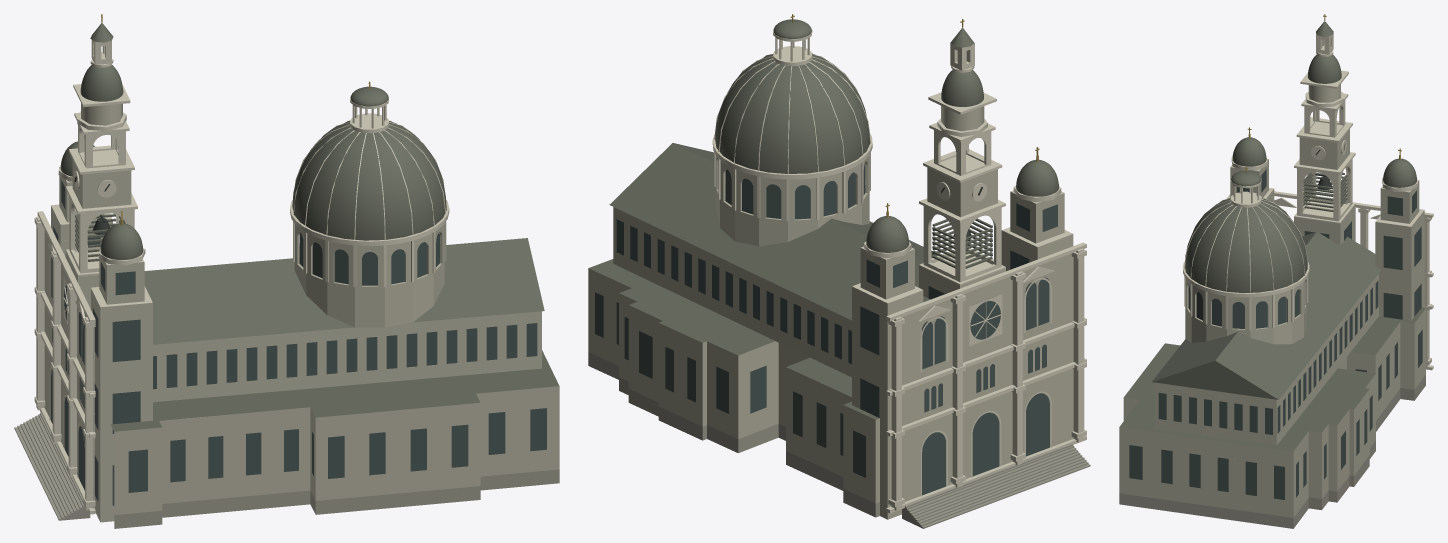
The model's file is cathedral-blessed-sacrament-sacramento-near.glb.
3 renders of one model, left to right at view 1: azimuth 30°, elevation 25°; view 2: azimuth 150°, elevation 25°; view 3: azimuth 270°, elevation 25°, orthographic. The views are drawn at different scales.
Parts seen in each view (by area): view 1: cathedral-blessed-sacrament-sacramento-0-stone, cathedral-blessed-sacrament-sacramento-0-roof, cathedral-blessed-sacrament-sacramento-0-glass, cathedral-blessed-sacrament-sacramento-0-trim, cathedral-blessed-sacrament-sacramento-0-base; view 2: cathedral-blessed-sacrament-sacramento-0-stone, cathedral-blessed-sacrament-sacramento-0-roof, cathedral-blessed-sacrament-sacramento-0-trim, cathedral-blessed-sacrament-sacramento-0-glass, cathedral-blessed-sacrament-sacramento-0-base; view 3: cathedral-blessed-sacrament-sacramento-0-stone, cathedral-blessed-sacrament-sacramento-0-roof, cathedral-blessed-sacrament-sacramento-0-glass, cathedral-blessed-sacrament-sacramento-0-trim, cathedral-blessed-sacrament-sacramento-0-base.
Boxes of the visible parts, x1,y1,x2,y2 form: cathedral-blessed-sacrament-sacramento-0-stone: [44, 103, 559, 522]; cathedral-blessed-sacrament-sacramento-0-roof: [60, 23, 559, 431]; cathedral-blessed-sacrament-sacramento-0-glass: [51, 180, 546, 505]; cathedral-blessed-sacrament-sacramento-0-trim: [34, 40, 449, 514]; cathedral-blessed-sacrament-sacramento-0-base: [14, 412, 559, 528]; cathedral-blessed-sacrament-sacramento-0-stone: [588, 105, 1073, 519]; cathedral-blessed-sacrament-sacramento-0-roof: [588, 19, 1058, 419]; cathedral-blessed-sacrament-sacramento-0-trim: [712, 28, 1086, 513]; cathedral-blessed-sacrament-sacramento-0-glass: [595, 163, 1057, 495]; cathedral-blessed-sacrament-sacramento-0-base: [588, 352, 1090, 528]; cathedral-blessed-sacrament-sacramento-0-stone: [1119, 84, 1425, 517]; cathedral-blessed-sacrament-sacramento-0-roof: [1119, 21, 1425, 451]; cathedral-blessed-sacrament-sacramento-0-glass: [1129, 169, 1422, 499]; cathedral-blessed-sacrament-sacramento-0-trim: [1183, 31, 1433, 370]; cathedral-blessed-sacrament-sacramento-0-base: [1119, 375, 1425, 528].
Bounding box in the file's own units: 71.92 × 65.53 × 51.49.
